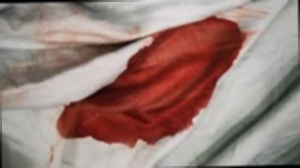blood: (82, 24, 246, 147)
